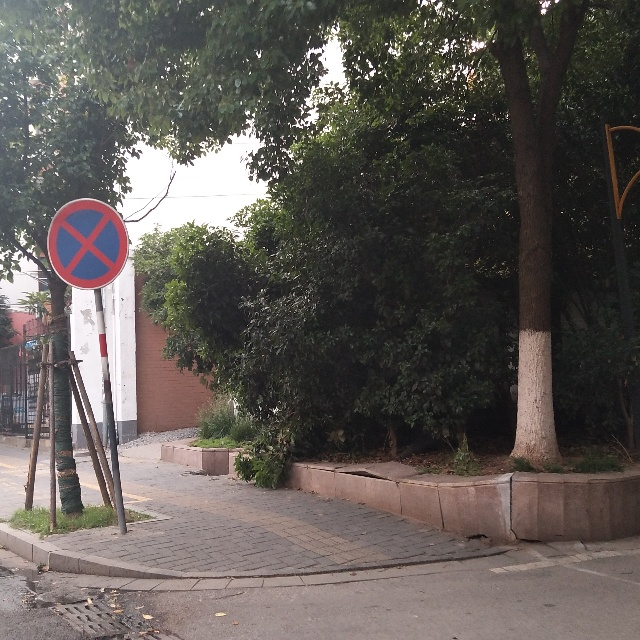stop: (57, 208, 120, 282)
